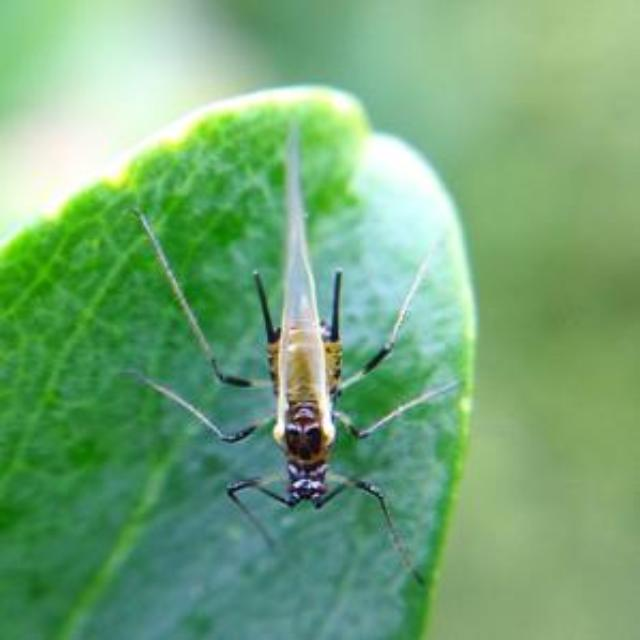Green peach aphid: (96, 101, 528, 581)
